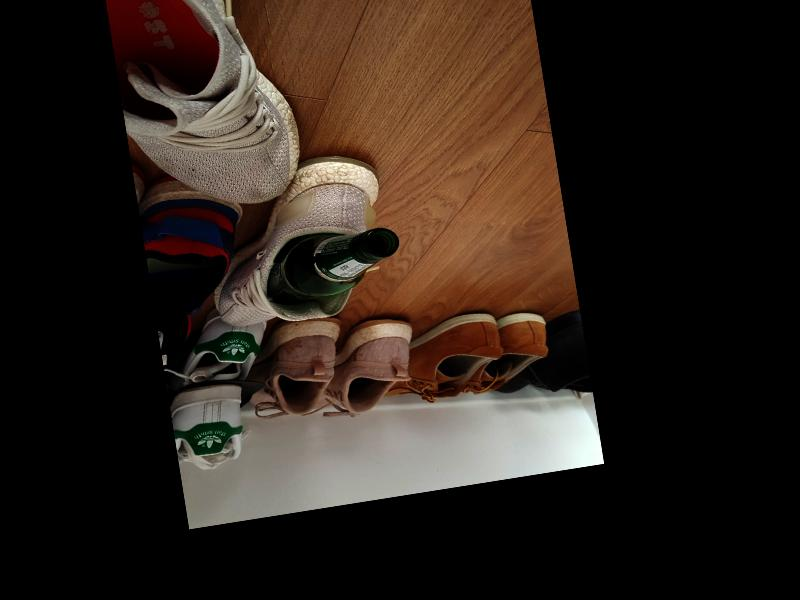Beer: (261, 223, 406, 308)
